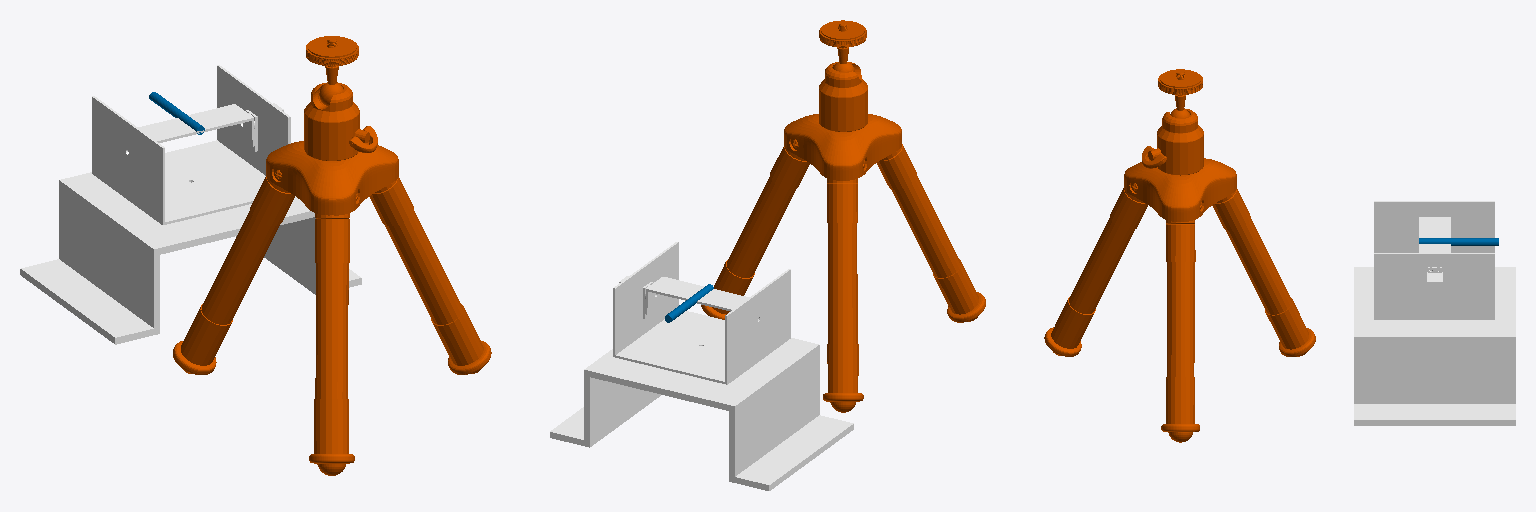
The robot description file, URDF, robot "pan_tilt_mech":
<?xml version="1.0" encoding="utf-8"?>
<!-- This URDF was automatically created by SolidWorks to URDF Exporter! Originally created by [author] ([email redacted]) 
     Commit Version: 1.6.0-1-g15f4949  Build Version: 1.6.7594.29634
     For more information, please see http://wiki.ros.org/sw_urdf_exporter -->
<robot name="pan_tilt_mech" xmlns:xacro="http://www.ros.org/wiki/xacro">

  <link name="world">
  </link>
  <joint name="fixed" type="fixed">
    <parent link="world"/>
    <child link="base_link"/>
  </joint>
	  <gazebo>
    <plugin name="gazebo_ros_control" filename="libgazebo_ros_control.so">
      <robotNamespace>/pan_tilt_mech</robotNamespace>
      <robotSimType>gazebo_ros_control/DefaultRobotHWSim</robotSimType>
    </plugin>
  </gazebo>

<gazebo reference="tilt_link">
    <material>Gazebo/Black</material>
    <sensor type="ray" name="laser">
        <pose>0 0.015 0.06 0 -1.57 0</pose>
        <visualize>true</visualize>
        <update_rate>50</update_rate>
        <ray>
            <scan>
                <horizontal>
                    <samples>10</samples>
                    <resolution>1</resolution>
                    <min_angle>0.0</min_angle>
                    <max_angle>0.0</max_angle>
                </horizontal> 
                <vertical>
                    <samples>10</samples>
                    <resolution>1</resolution>
                    <min_angle>0.0</min_angle>
                    <max_angle>0.0</max_angle>
                </vertical>
            </scan>
            <range>
                <min>0.01</min>
                <max>100</max>
                <resolution>1.0</resolution>
            </range>
        </ray>
        <plugin filename="libgazebo_ros_range.so" name="gazebo_ros_range">
            <gaussianNoise>0.005</gaussianNoise>
            <alwaysON>true</alwaysON>
            <updateRate>50</updateRate>
            <topicName>gun</topicName>
            <frameName>laser_distance</frameName>
            <radiation>INFRARED</radiation>
            <fov>0.2967</fov>
        </plugin>

    </sensor>
  </gazebo>  
  <link
    name="base_link">
    <inertial>
      <origin
        xyz="0 0 0"
        rpy="0 0 0" />
      <mass
        value="0.2918" />
      <inertia
        ixx="0.0012785"
        ixy="7.8447E-20"
        ixz="-6.4806E-19"
        iyy="0.003088"
        iyz="-8.7448E-07"
        izz="0.0026035" />
    </inertial>
    <visual>
      <origin
        xyz="0 0 0"
        rpy="0 0 0" />
      <geometry>
        <mesh
          filename="package://pan_tilt_mech/meshes/base_link.STL" />
      </geometry>
      <material
        name="">
        <color
          rgba="1 1 1 1" />
      </material>
    </visual>
    <collision>
      <origin
        xyz="0 0 0"
        rpy="0 0 0" />
      <geometry>
        <mesh
          filename="package://pan_tilt_mech/meshes/base_link.STL" />
      </geometry>
    </collision>
  </link>
  <link
    name="pan_link">
    <inertial>
      <origin
        xyz="1.249E-16 0.027895 -0.0078715"
        rpy="0 0 0" />
      <mass
        value="0.3185" />
      <inertia
        ixx="0.00099595"
        ixy="-9.0846E-19"
        ixz="1.8127E-18"
        iyy="0.0011829"
        iyz="-6.8855E-06"
        izz="0.00062446" />
    </inertial>
    <visual>
      <origin
        xyz="0 0 0"
        rpy="0 0 0" />
      <geometry>
        <mesh
          filename="package://pan_tilt_mech/meshes/pan_link.STL" />
      </geometry>
      <material
        name="">
        <color
          rgba="1 1 1 0.3" />
      </material>
    </visual>
    <collision>
      <origin
        xyz="0 0 0"
        rpy="0 0 0" />
      <geometry>
        <mesh
          filename="package://pan_tilt_mech/meshes/pan_link.STL" />
      </geometry>
    </collision>
  </link>
  <joint
    name="pan_joint"
    type="revolute">
    <origin
      xyz="0.010936 -0.086324 0.12913"
      rpy="1.5708 0 -1.57" />
    <parent
      link="base_link" />
    <child
      link="pan_link" />
    <axis
      xyz="0 1 0" />
    <limit
      lower="-3.14"
      upper="3.14"
      effort="10"
      velocity="10" />
  </joint>
  <link
    name="tilt_link">
    <inertial>
      <origin
        xyz="0.005 0.01059 -1.3878E-17"
        rpy="0 0 0" />
      <mass
        value="0.26299" />
      <inertia
        ixx="0"
        ixy="0"
        ixz="0"
        iyy="0"
        iyz="0"
        izz="0" />
    </inertial>
    <visual>
      <origin
        xyz="0 0 0"
        rpy="0 0 0" />
      <geometry>
        <mesh
          filename="package://pan_tilt_mech/meshes/tilt_link.STL" />
      </geometry>
      <material
        name="">
        <color
          rgba="1 1 1 0.3" />
      </material>
    </visual>
    <collision>
      <origin
        xyz="0 0 0"
        rpy="0 0 0" />
      <geometry>
        <mesh
          filename="package://pan_tilt_mech/meshes/tilt_link.STL" />
      </geometry>
    </collision>
  </link>


  <joint
    name="tilt_joint"
    type="revolute">
    <origin
      xyz="0 0.067 0"
      rpy="0 -1.5708 0" />
    <parent
      link="pan_link" />
    <child
      link="tilt_link" />
    <axis
      xyz="1 0 0" />
    <limit
      lower="-3.14"
      upper="3.14"
      effort="10"
      velocity="10" />
  </joint>

    	<link name="gun_link">
  		<collision>
  			<origin xyz="0 0 0" rpy="0 0 0"/>
  			<geometry>
  				<cylinder radius="0.005" length="0.05"/>
  			</geometry>
  		</collision>
  		<visual>
  			<origin xyz="0 0 0" rpy="0 0 0"/>
  			<geometry>
  				<cylinder radius="0.005" length="0.10"/>
  			</geometry>
  		</visual>
  		<inertial>
  			<origin xyz="0 0 0" rpy="0 0 0"/>
  			<mass value="0.3"/>
  			<inertia ixx="0.3" ixy="0.0" ixz="0.0" iyy="0.3" iyz="0.0"
  				izz="0.3"/>
  		</inertial>
  	</link>

<link name="tripod">
    <collision>
      <origin xyz="0.02 0 0" rpy="0 0 0"/>
      <geometry>
        <box size="0.001 0.001 0.001"/>
      </geometry>
    </collision>

    <visual>
      <origin xyz="0 0 0" rpy="0 0 0"/>
      <geometry>
         <mesh filename="package://pan_tilt_mech/meshes/TRIPOD.stl" scale="0.001 0.001 0.001" />
      </geometry>
    </visual>

    <inertial>
      <mass value="1e-5" />
      <origin xyz="0 0 0" rpy="0 0 0"/>
      <inertia ixx="0" ixy="0" ixz="0" iyy="0" iyz="0" izz="0" />
    </inertial>
  </link>

 <joint name="tripod" type="fixed">
    <axis xyz="0 0 0" />
    <origin xyz="0 -0.4 0.3" rpy="1.57 0 0"/>
    <parent link="base_link"/>
    <child link="tripod"/>
  </joint>

 <joint name="intelrealsense2" type="fixed">
    <axis xyz="0 0 0" />
    <origin xyz="0 0.15 0" rpy="-1.57 1.57 0"/>
    <parent link="tripod"/>
    <child link="camera_link2"/>
  </joint>

<link name="camera_link2">
    <collision>
      <origin xyz="0.02 0 0" rpy="0 0 0"/>
      <geometry>
        <box size="0.001 0.001 0.001"/>
      </geometry>
    </collision>

    <visual>
      <origin xyz="0.01 0 0" rpy="1.5707 0 1.5707"/>
      <geometry>
         <mesh filename="package://pan_tilt_mech/meshes/NAVRS.STL" />
      </geometry>
    </visual>

    <inertial>
      <mass value="1e-5" />
      <origin xyz="0 0 0" rpy="0 0 0"/>
      <inertia ixx="0" ixy="0" ixz="0" iyy="0" iyz="0" izz="0" />
    </inertial>
  </link>



  <joint name="camera_optical_joint2" type="fixed">
    <origin xyz="0 0 0" rpy="-1.57 0 -1.57"/>
    <parent link="camera_link2"/>
    <child link="camera_rgb_frame2"/>
  </joint>

  <link name="camera_rgb_frame2">
  </link>

  <joint name="camera_depth_joint2" type="fixed">
    <origin xyz="0 0 0" rpy="-1.57 0 -1.57"/>
    <parent link="camera_link2"/>
    <child link="camera_depth_frame2"/>
  </joint>

    <link name="camera_depth_frame2">
  </link>



<gazebo reference="camera_link2">
    <sensor type="depth" name="intelrealsense2">
      <always_on>1</always_on>
      <visualize>true</visualize>
      <camera>
        <horizontal_fov>1.047</horizontal_fov>
        <image>
          <width>640</width>
          <height>480</height>
          <format>R8G8B8</format>
        </image>
        <depth_camera>

        </depth_camera>
        <clip>
          <near>0.1</near>
          <far>100</far>
        </clip>
      </camera>
      <plugin name="intelrealsense" filename="libgazebo_ros_openni_kinect.so">
        <alwaysOn>true</alwaysOn>
        <updateRate>10.0</updateRate>
        <cameraName>camera2</cameraName>
        <frameName>camera_depth_frame2</frameName>
        <imageTopicName>/camera/color/image_raw2</imageTopicName>
        <depthImageTopicName>/camera/depth/image_raw2</depthImageTopicName>
        <pointCloudTopicName>depth/points2</pointCloudTopicName>
        <cameraInfoTopicName>/camera/color/camera_info2</cameraInfoTopicName>
        <depthImageCameraInfoTopicName>/camera/depth/camera_info2</depthImageCameraInfoTopicName>
         <pointCloudCutoff>0.2</pointCloudCutoff>
         <pointCloudCutoffMax>10.0</pointCloudCutoffMax>
        <hackBaseline>0.07</hackBaseline>
        <distortionK1>0.0</distortionK1>
        <distortionK2>0.0</distortionK2>
        <distortionK3>0.0</distortionK3>
        <distortionT1>0.0</distortionT1>
        <distortionT2>0.0</distortionT2>
        <CxPrime>0.0</CxPrime>
        <Cx>0.0</Cx>
        <Cy>0.0</Cy>
        <focalLength>0.0</focalLength>
      </plugin>
    </sensor>
  </gazebo>


  	<joint name="gun_link" type="fixed">
  		<parent link="tilt_link"/>
  		<child link="gun_link"/>
  		<origin xyz="0 0.015 0.03" rpy="0 0 0"/>
  		<axis xyz="0 1 0"/>
  		<dynamics damping="0.7"/>
  	</joint>

  	<transmission name="pan_transmission">
  		<type>transmission_interface/SimpleTransmission</type>
  		<joint name="pan_joint">
  			<hardwareInterface>hardware_interface/EffortJointInterface</hardwareInterface>
  		</joint>
  		<actuator name="pan_motor">
  			<hardwareInterface>hardware_interface/EffortJointInterface</hardwareInterface>
  			<mechanicalReduction>1</mechanicalReduction>
  		</actuator>
  	</transmission>

  	<transmission name="tilt_transmission">
  		<type>transmission_interface/SimpleTransmission</type>
  		<joint name="tilt_joint">
  			<hardwareInterface>hardware_interface/EffortJointInterface</hardwareInterface>
  		</joint>
  		<actuator name="tilt_motor">
  			<hardwareInterface>hardware_interface/EffortJointInterface</hardwareInterface>
  			<mechanicalReduction>1</mechanicalReduction>
  		</actuator>
  	</transmission>    
</robot>

--- What the picture shows (computed from the rendered views, not written in the file) ---
Views: 3 orthographic renders of the robot side by side, from view 1: azimuth 30°, elevation 25°; view 2: azimuth 150°, elevation 25°; view 3: azimuth 270°, elevation 25°.
Model pan_tilt_mech with 9 links and 8 joints (2 revolute, 6 fixed), rooted at world, posed all joints at 0.
Visible links, largest first — view 1: tripod, base_link, pan_link, tilt_link, gun_link; view 2: tripod, base_link, pan_link, tilt_link; view 3: tripod, base_link, pan_link, tilt_link, gun_link.
Link boxes in pixels (<box>): tripod: <box>173,36,491,475</box>; base_link: <box>20,172,361,344</box>; pan_link: <box>92,65,290,224</box>; tilt_link: <box>138,104,253,142</box>; gun_link: <box>149,92,204,134</box>; tripod: <box>701,20,985,412</box>; base_link: <box>550,338,853,490</box>; pan_link: <box>613,242,790,384</box>; tilt_link: <box>646,277,749,311</box>; tripod: <box>1044,69,1315,442</box>; base_link: <box>1354,267,1515,425</box>; pan_link: <box>1374,201,1494,319</box>; tilt_link: <box>1419,217,1450,252</box>; gun_link: <box>1419,238,1498,245</box>.
Size in the robot's own frame: 0.3296 by 0.5849 by 0.4278 metres.
Meshes: 5 distinct files referenced, 4 mesh visuals loaded (4 binary STL); not drawn: 1 (reference not matched to a file when rendering).
